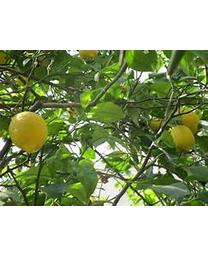lemon: (11, 113, 47, 153), (170, 125, 196, 153)
